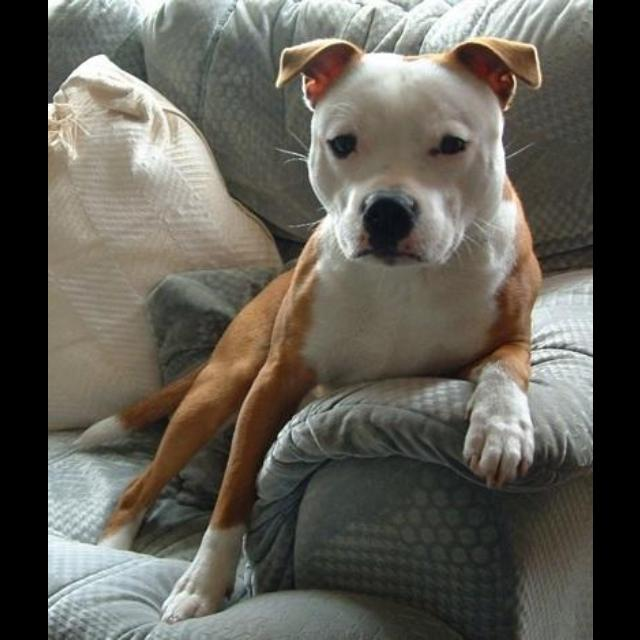amstaff: (69, 34, 545, 624)
